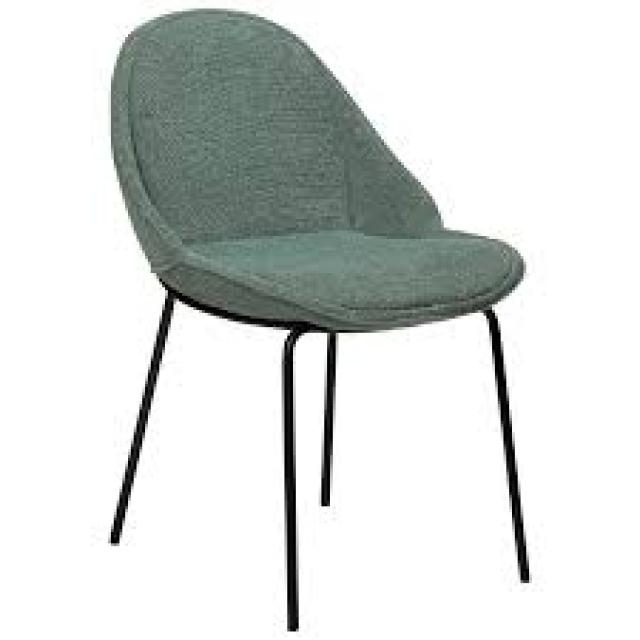chair: (78, 1, 598, 640)
